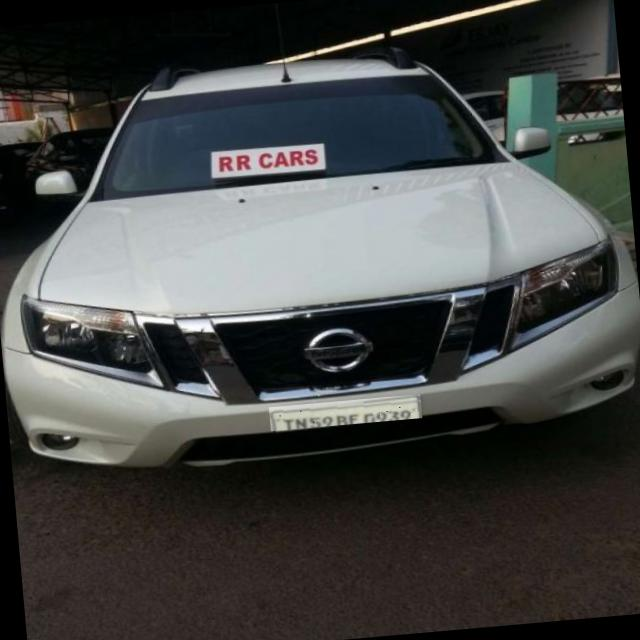Plate: (269, 395, 423, 432)
